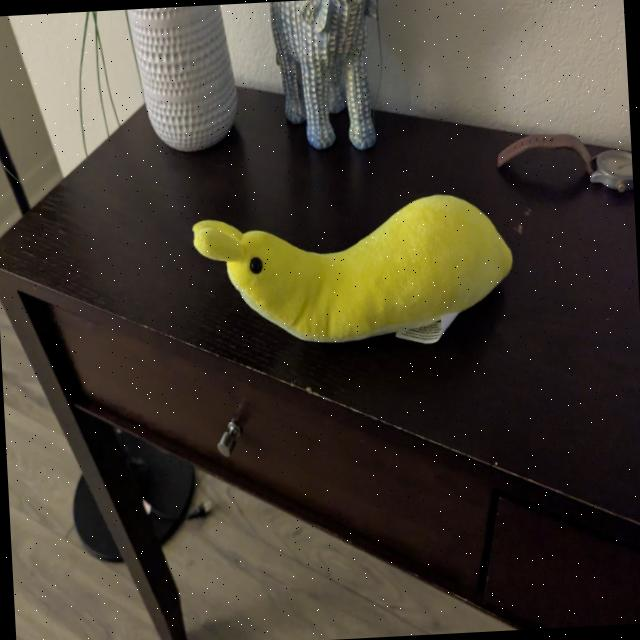banana-slug-toy: (185, 192, 534, 362)
